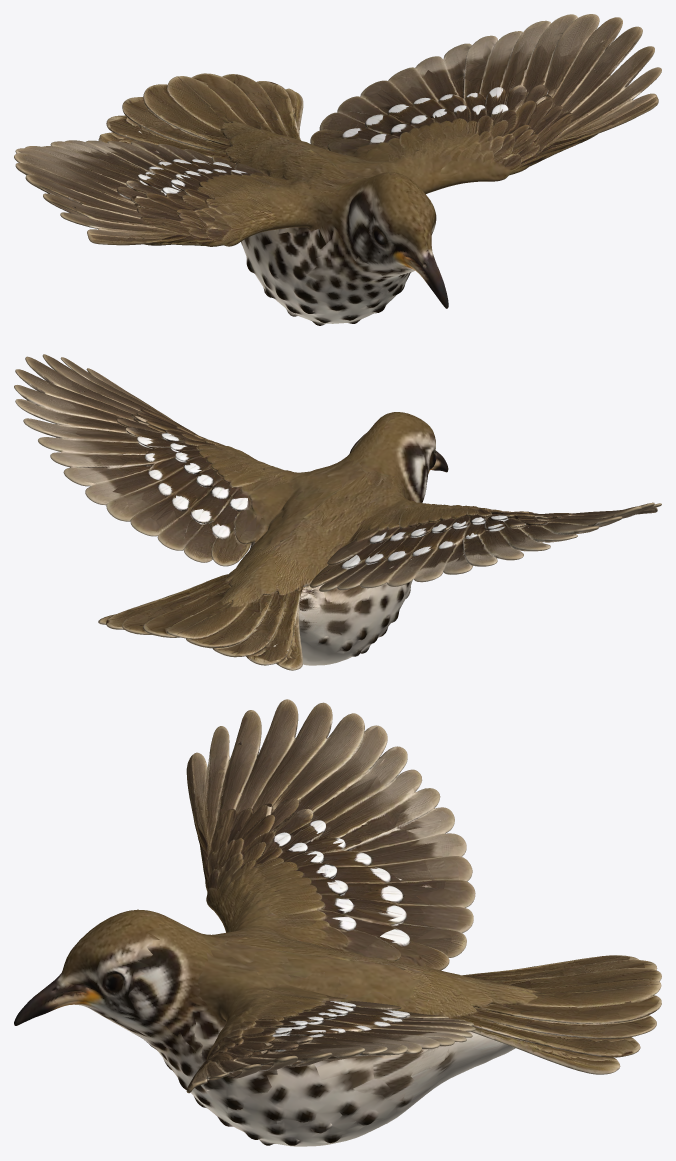
File: Geokichla_guttata.glb
3 renders of one model, top to bottom at view 1: azimuth 30°, elevation 25°; view 2: azimuth 150°, elevation 25°; view 3: azimuth 270°, elevation 25°, orthographic. The views are drawn at different scales.
Visible parts, largest first — view 1: orient; view 2: orient; view 3: orient.
Part boxes in pixels (x1,y1,x2,y2): orient: [14, 14, 661, 325]; orient: [14, 354, 661, 670]; orient: [14, 699, 661, 1146].
Bounding box in the file's own units: 0.5 × 0.169 × 0.3812.
Materials: 1 (1 with a texture image).
